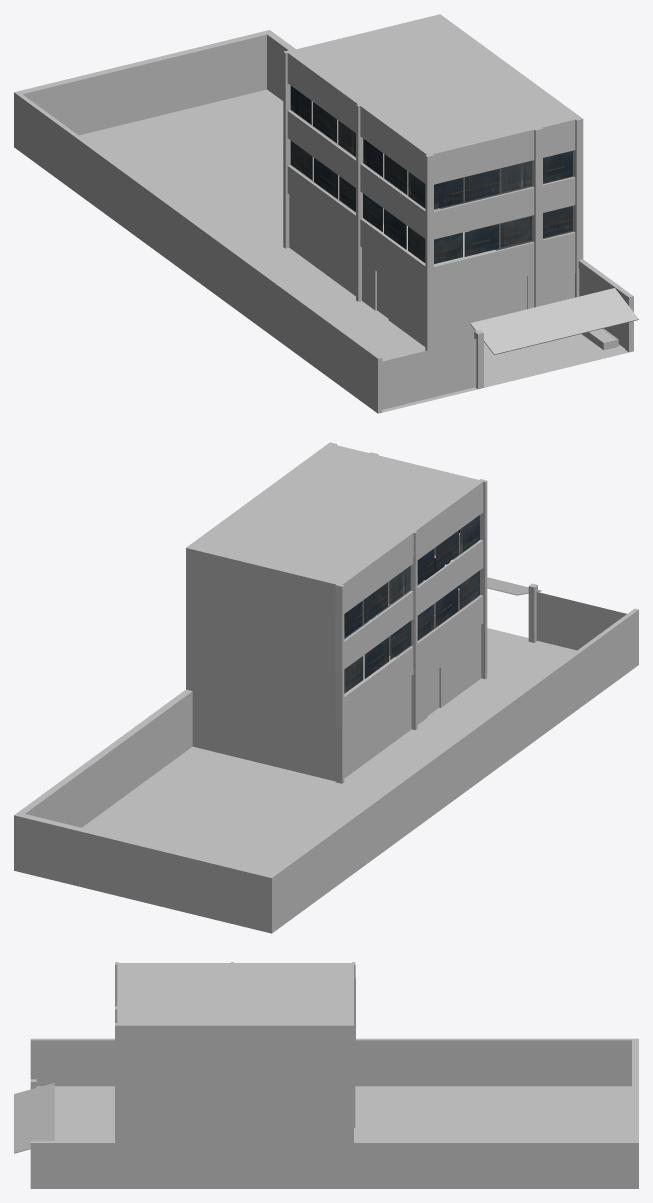
3 views of the same model, one above another, from view 1: azimuth 30°, elevation 25°; view 2: azimuth 150°, elevation 25°; view 3: azimuth 270°, elevation 25° (orthographic). The views are drawn at different scales.
Visible parts, largest first — view 1: BB-021; view 2: BB-021; view 3: BB-021.
Part boxes in pixels (bbox=[...]): BB-021: bbox=[14, 14, 638, 413]; BB-021: bbox=[14, 442, 638, 933]; BB-021: bbox=[14, 962, 638, 1188].
Size of what is drawn, in the model's own units: 14.6 by 10.66 by 36.98.
